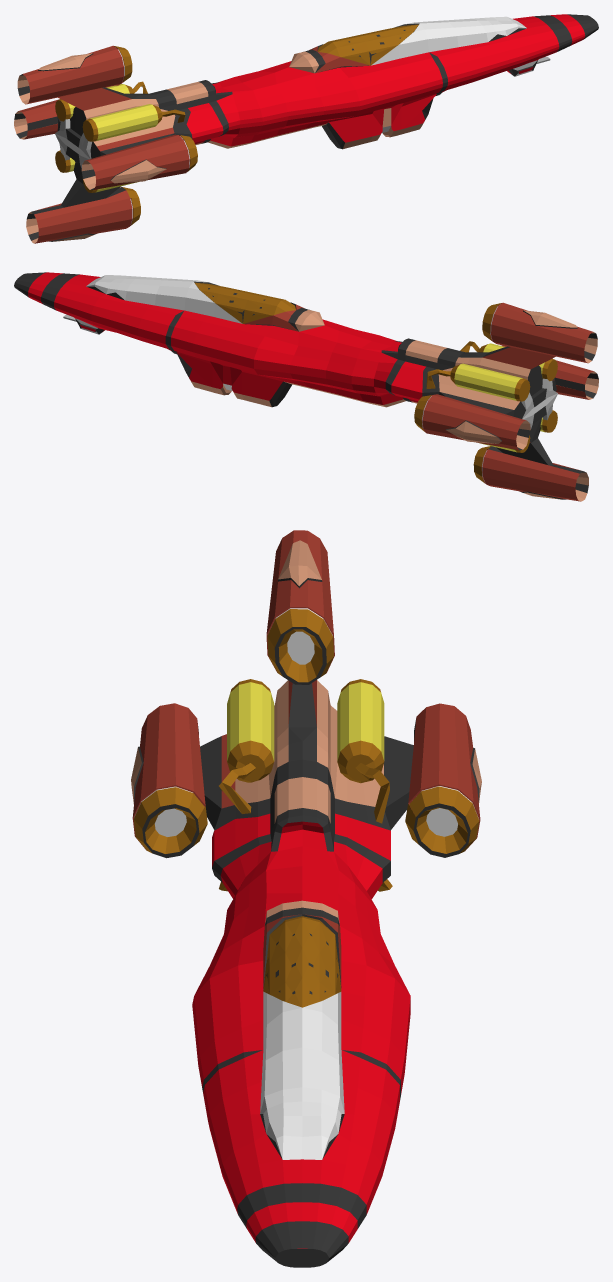
3 views of the same model, one above another, from view 1: azimuth 30°, elevation 25°; view 2: azimuth 150°, elevation 25°; view 3: azimuth 270°, elevation 25° (orthographic). The views are drawn at different scales.
Visible parts, largest first — view 1: SOLOBoostUPG.001; view 2: SOLOBoostUPG.001; view 3: SOLOBoostUPG.001.
Part boxes in pixels (x1=…): SOLOBoostUPG.001: x1=14, y1=14, x2=598, y2=243; SOLOBoostUPG.001: x1=14, y1=272, x2=598, y2=501; SOLOBoostUPG.001: x1=131, y1=530, x2=481, y2=1267.
Size of the model in its own units: 471 by 144 by 126.
